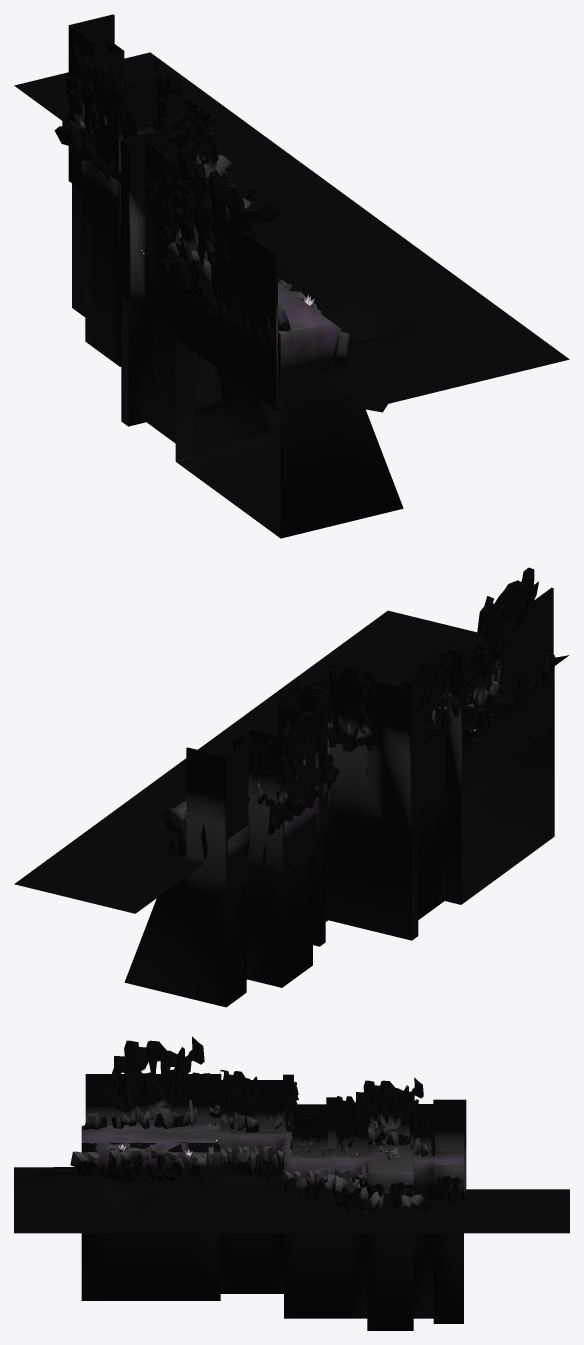
The model's file is Level1.glb.
3 renders of one model, top to bottom at view 1: azimuth 30°, elevation 25°; view 2: azimuth 150°, elevation 25°; view 3: azimuth 270°, elevation 25°, orthographic. The views are drawn at different scales.
Visible parts, largest first — view 1: Clean_Bounds_CSGBox3D32-col, Plane, Clean_Bounds_CSGBox3D142-col, CliffGenerator, CliffGenerator.007, CliffGenerator.006, CliffGenerator.015, CliffGenerator.001; view 2: Clean_Bounds_CSGBox3D32-col, Clean_Bounds_CSGBox3D142-col, Plane, CliffGenerator, CliffGenerator.007, CliffGenerator.006, CliffGenerator.005, CliffGenerator.010, CliffGenerator.004; view 3: Clean_Bounds_CSGBox3D32-col, Plane, Clean_Bounds_CSGBox3D142-col, CliffGenerator, CliffGenerator.001, CliffGenerator.015, CliffGenerator.007, CliffGenerator.005, CliffGenerator.011, CliffGenerator.012, CliffGenerator.008, CliffGenerator.014 (+5 smaller).
Boxes of the visible parts, x1,y1,x2,y2 form: Clean_Bounds_CSGBox3D32-col: [69, 120, 403, 538]; Plane: [14, 52, 569, 412]; Clean_Bounds_CSGBox3D142-col: [68, 14, 277, 410]; CliffGenerator: [157, 145, 290, 351]; CliffGenerator.007: [54, 42, 137, 182]; CliffGenerator.006: [160, 107, 218, 177]; CliffGenerator.015: [216, 152, 279, 224]; CliffGenerator.001: [278, 279, 349, 369]; Clean_Bounds_CSGBox3D32-col: [124, 655, 554, 1007]; Clean_Bounds_CSGBox3D142-col: [186, 587, 553, 896]; Plane: [14, 610, 569, 913]; CliffGenerator: [462, 567, 557, 745]; CliffGenerator.007: [268, 701, 339, 834]; CliffGenerator.006: [328, 663, 377, 751]; CliffGenerator.005: [419, 642, 456, 743]; CliffGenerator.010: [252, 735, 275, 806]; CliffGenerator.004: [444, 668, 474, 717]; Clean_Bounds_CSGBox3D32-col: [81, 1125, 463, 1330]; Plane: [14, 1167, 569, 1233]; Clean_Bounds_CSGBox3D142-col: [85, 1074, 466, 1193]; CliffGenerator: [82, 1036, 215, 1129]; CliffGenerator.001: [70, 1144, 214, 1181]; CliffGenerator.015: [287, 1174, 431, 1212]; CliffGenerator.007: [355, 1077, 423, 1145]; CliffGenerator.005: [218, 1069, 259, 1132]; CliffGenerator.011: [220, 1142, 283, 1182]; CliffGenerator.012: [282, 1164, 367, 1199]; CliffGenerator.008: [318, 1093, 370, 1156]; CliffGenerator.014: [429, 1173, 467, 1202].
Size of the model in its own units: 114 by 138 by 314.
Materials: 10 (7 with a texture image).
